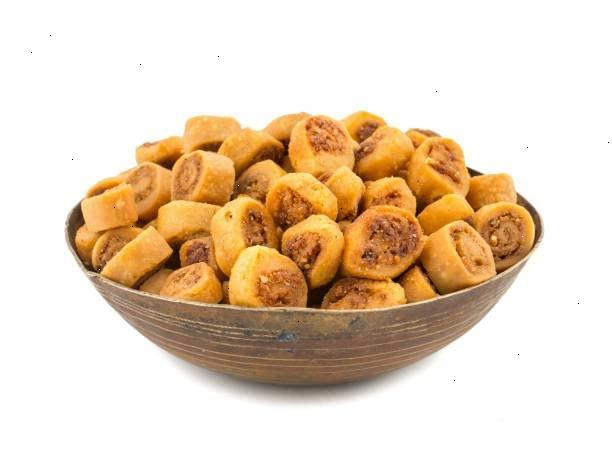bhakarwadi: (72, 108, 539, 308)
